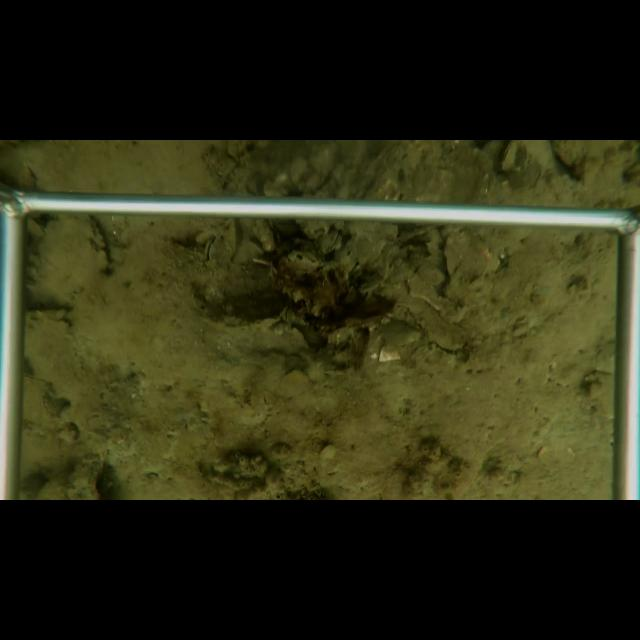Oyster-Closed: (437, 226, 497, 306), (78, 215, 114, 280), (498, 141, 520, 173), (278, 305, 295, 324)
Oyster-Open: (393, 296, 470, 359), (202, 235, 222, 261)
